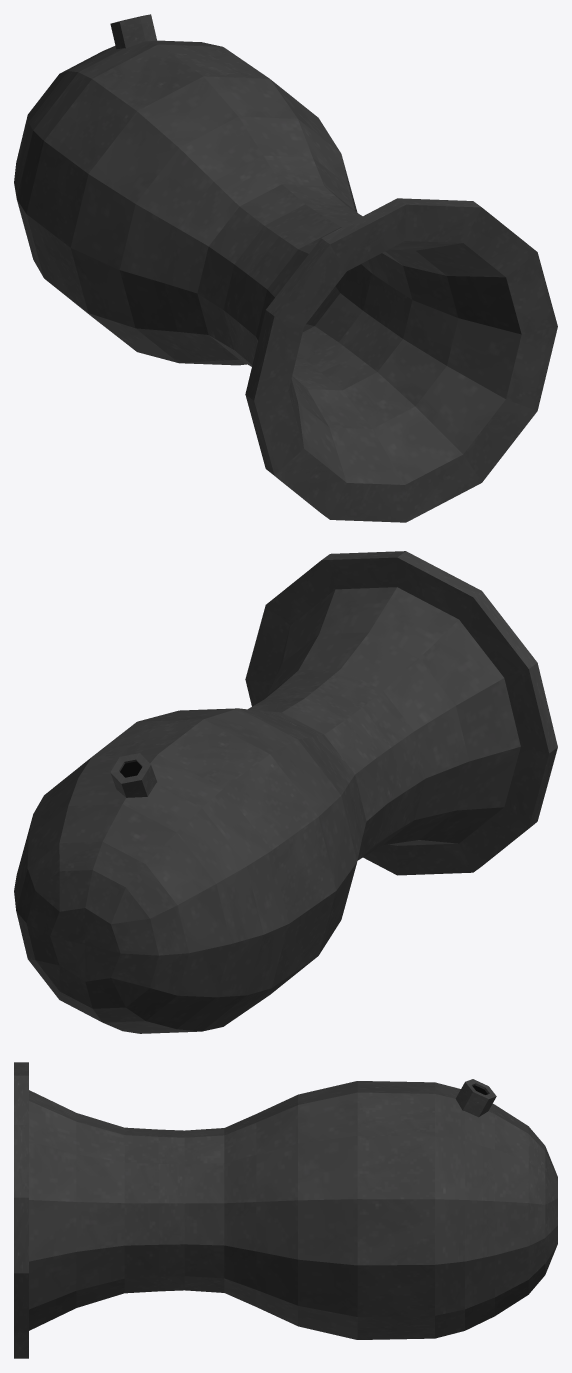
The model's file is cannon.fbx.
The picture shows the model from 3 angles, top to bottom: view 1: azimuth 30°, elevation 25°; view 2: azimuth 150°, elevation 25°; view 3: azimuth 270°, elevation 25°; orthographic projection. The views are drawn at different scales.
Visible parts, largest first — view 1: Cannon... eventually, Cylinder; view 2: Cannon... eventually, Cylinder; view 3: Cannon... eventually, Cylinder.
Boxes of the visible parts, x1,y1,x2,y2 form: Cannon... eventually: (14, 40, 557, 522); Cylinder: (110, 14, 157, 49); Cannon... eventually: (14, 551, 557, 1033); Cylinder: (110, 753, 156, 797); Cannon... eventually: (14, 1062, 557, 1358); Cylinder: (455, 1079, 496, 1117).
Bounding box in the file's own units: 48.21 × 48.21 × 88.14.
2 materials, 1 textured.
